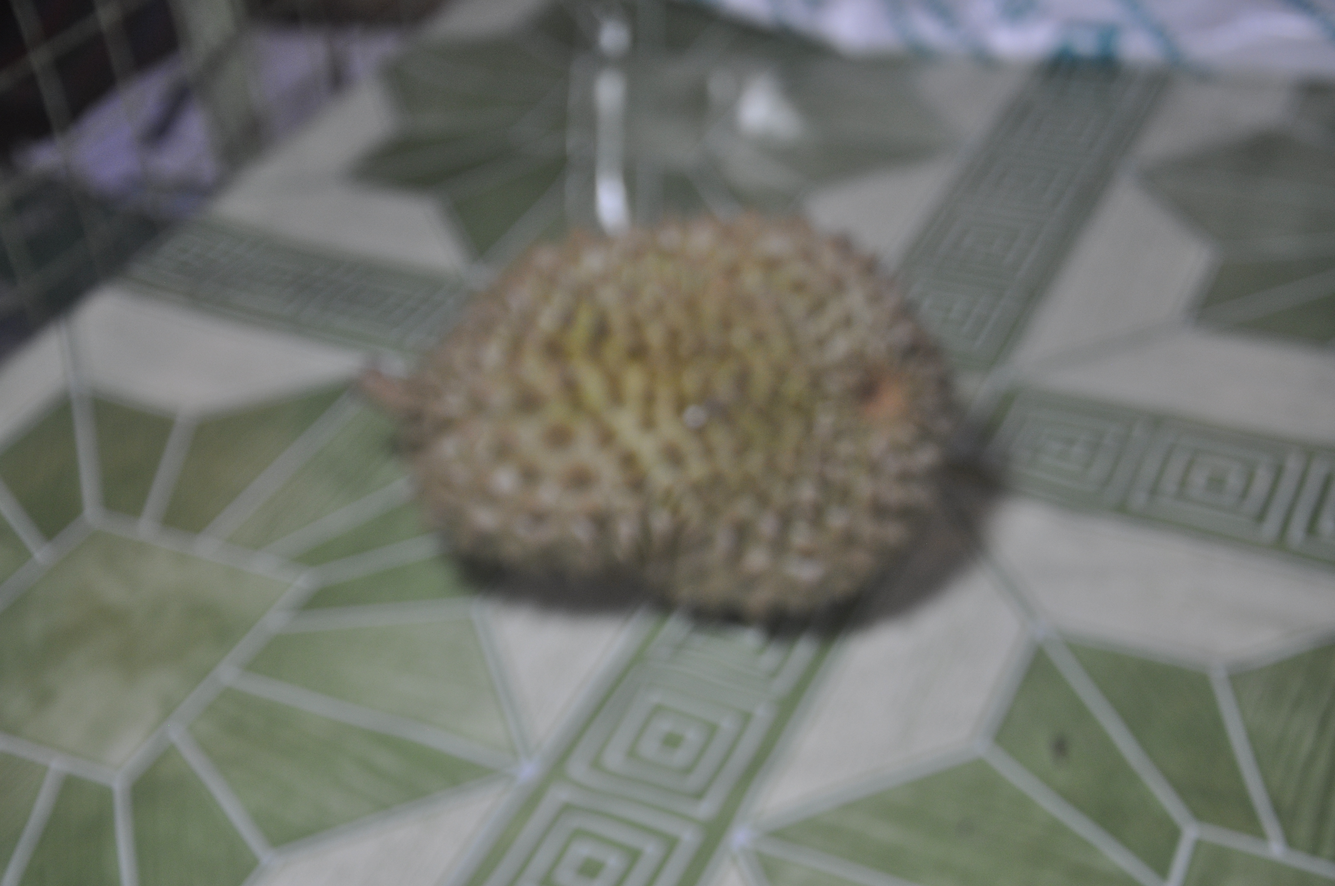mature: (364, 215, 955, 619)
